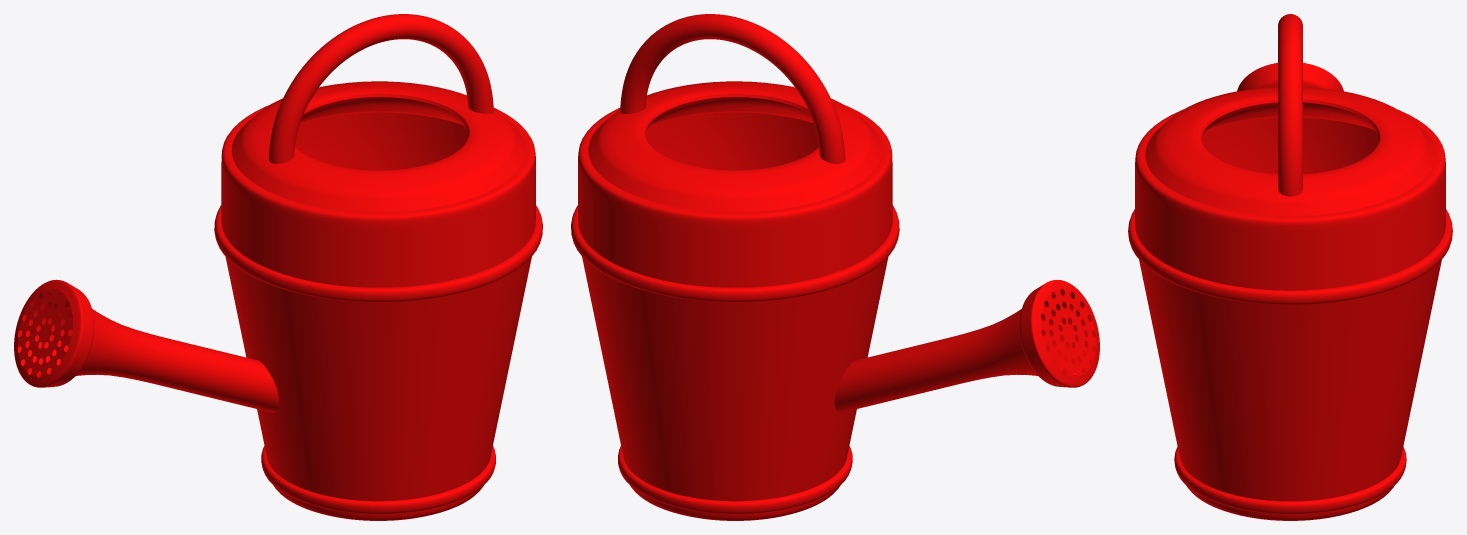
The model's file is Watering_Can.fbx.
3 views of the same model, side by side, from view 1: azimuth 30°, elevation 25°; view 2: azimuth 150°, elevation 25°; view 3: azimuth 270°, elevation 25° (orthographic).
Parts seen in each view (by area): view 1: Can, Subdivision_Surface__Cloner_2_, Cylinder; view 2: Can, Subdivision_Surface__Cloner_2_, Cylinder; view 3: Can, Cylinder, Subdivision_Surface__Cloner_2_.
Part boxes in pixels (<box>): Can: <box>214,81,542,520</box>; Subdivision_Surface__Cloner_2_: <box>14,279,279,412</box>; Cylinder: <box>268,14,493,163</box>; Can: <box>571,81,899,520</box>; Subdivision_Surface__Cloner_2_: <box>834,279,1099,412</box>; Cylinder: <box>620,14,845,163</box>; Can: <box>1128,87,1452,520</box>; Cylinder: <box>1278,14,1302,196</box>; Subdivision_Surface__Cloner_2_: <box>1237,63,1343,91</box>.
Size of the model in its own units: 258 by 231 by 149.
Materials: 1 (1 with a texture image).
